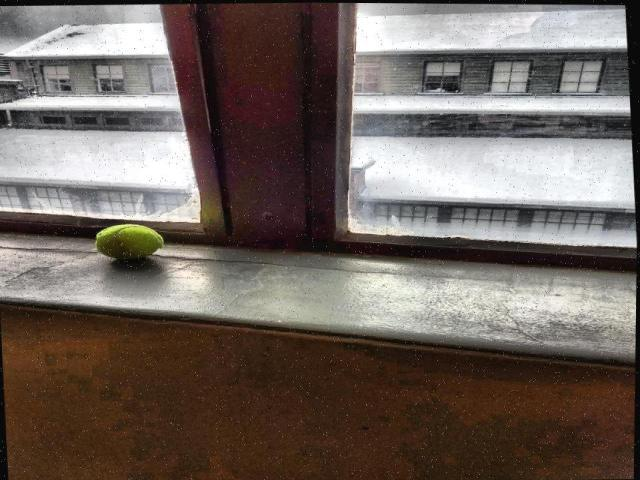tennis-ball: (96, 223, 164, 267)
